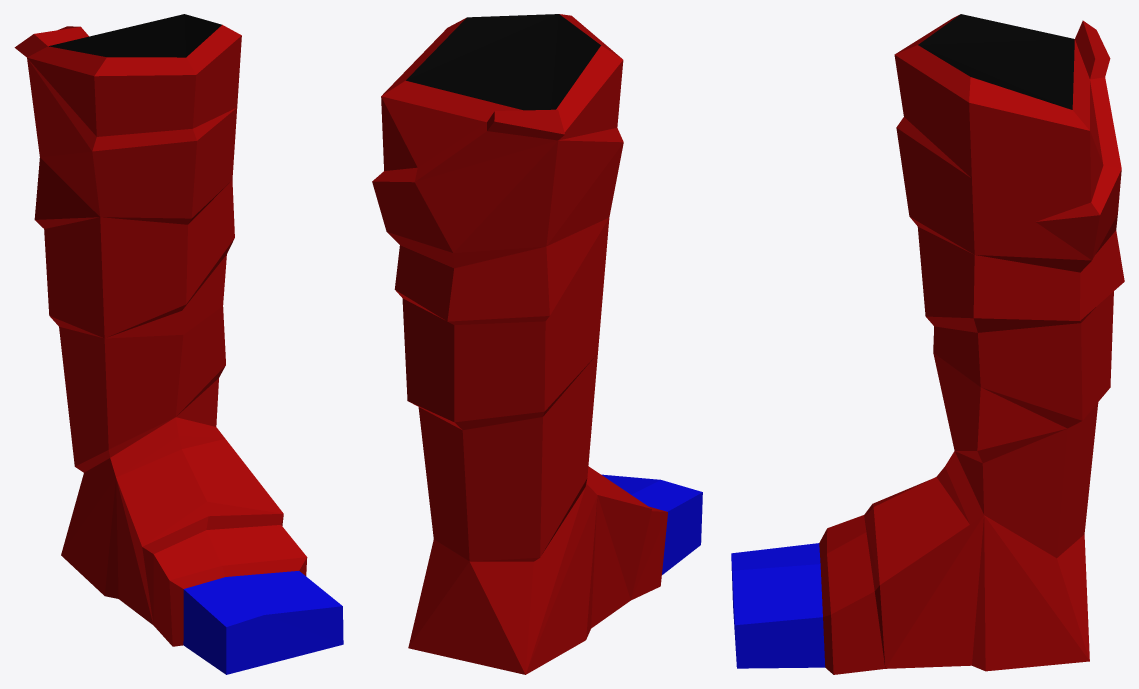
Rendered from Chr_LegRight_Male_Static_03.fbx.
3 views of the same model, side by side, from view 1: azimuth 30°, elevation 25°; view 2: azimuth 150°, elevation 25°; view 3: azimuth 270°, elevation 25° (orthographic). The views are drawn at different scales.
Visible parts, largest first — view 1: Chr_LegRight_Male_03; view 2: Chr_LegRight_Male_03; view 3: Chr_LegRight_Male_03.
Boxes of the visible parts, bbox=[...] form: Chr_LegRight_Male_03: bbox=[14, 14, 343, 674]; Chr_LegRight_Male_03: bbox=[372, 14, 702, 674]; Chr_LegRight_Male_03: bbox=[731, 14, 1124, 674].
Size of the model in its own units: 13.79 by 40.63 by 24.63.
